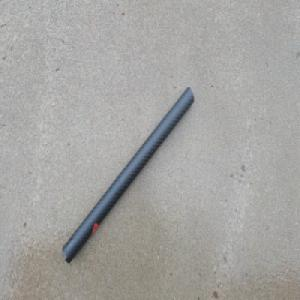LuggagePart: (61, 84, 195, 265)
